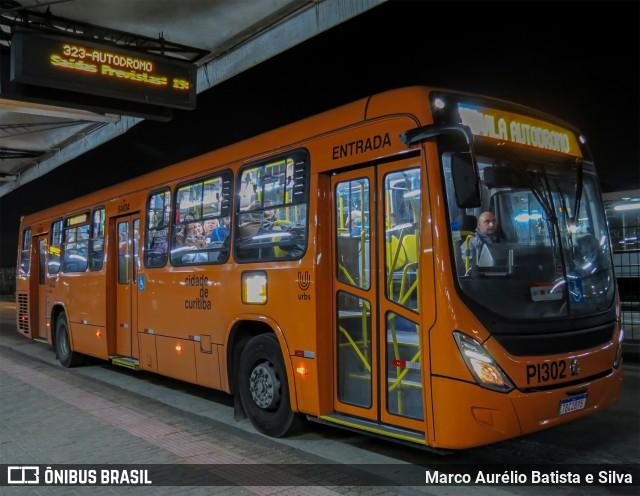VILA AUTODROMO: (477, 108, 575, 157)
